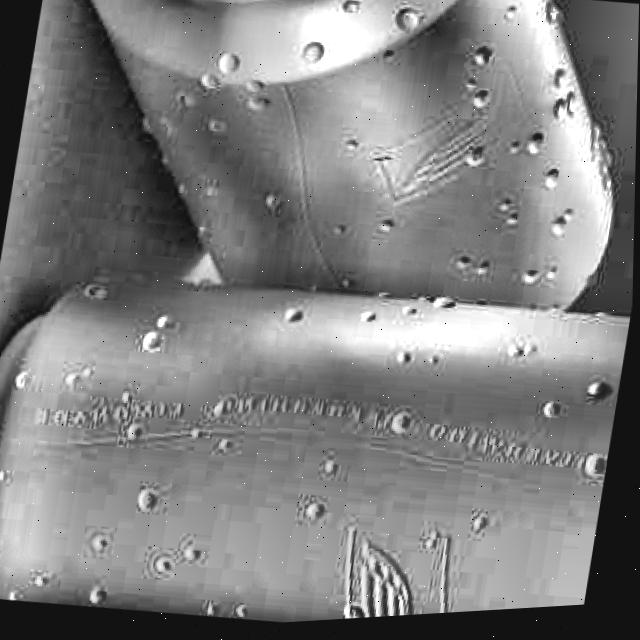metal: (0, 225, 635, 640), (0, 0, 640, 352)
